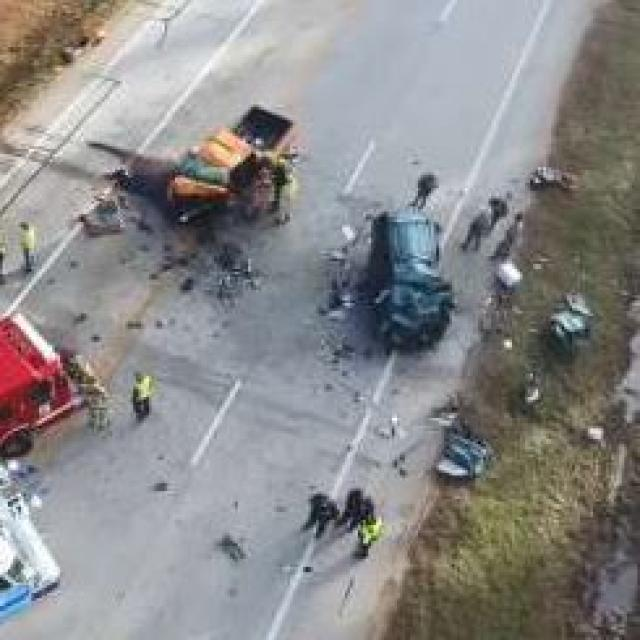traffic_incident: (107, 112, 301, 217), (353, 198, 452, 366)
